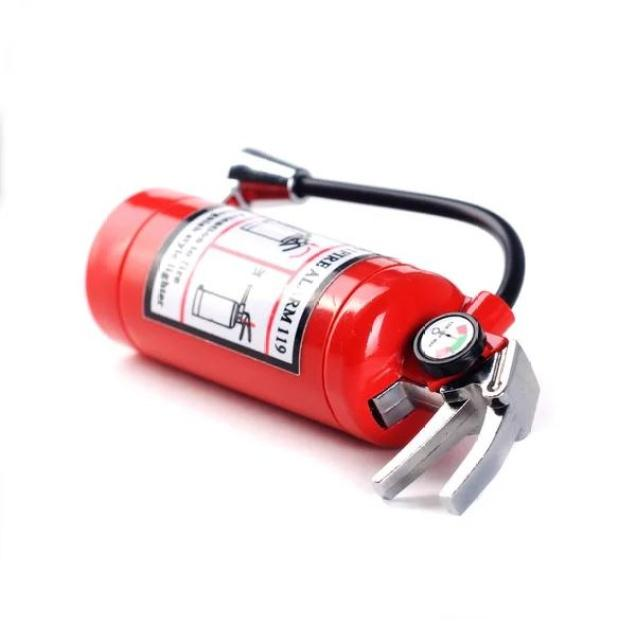APAR: (83, 184, 540, 517)
